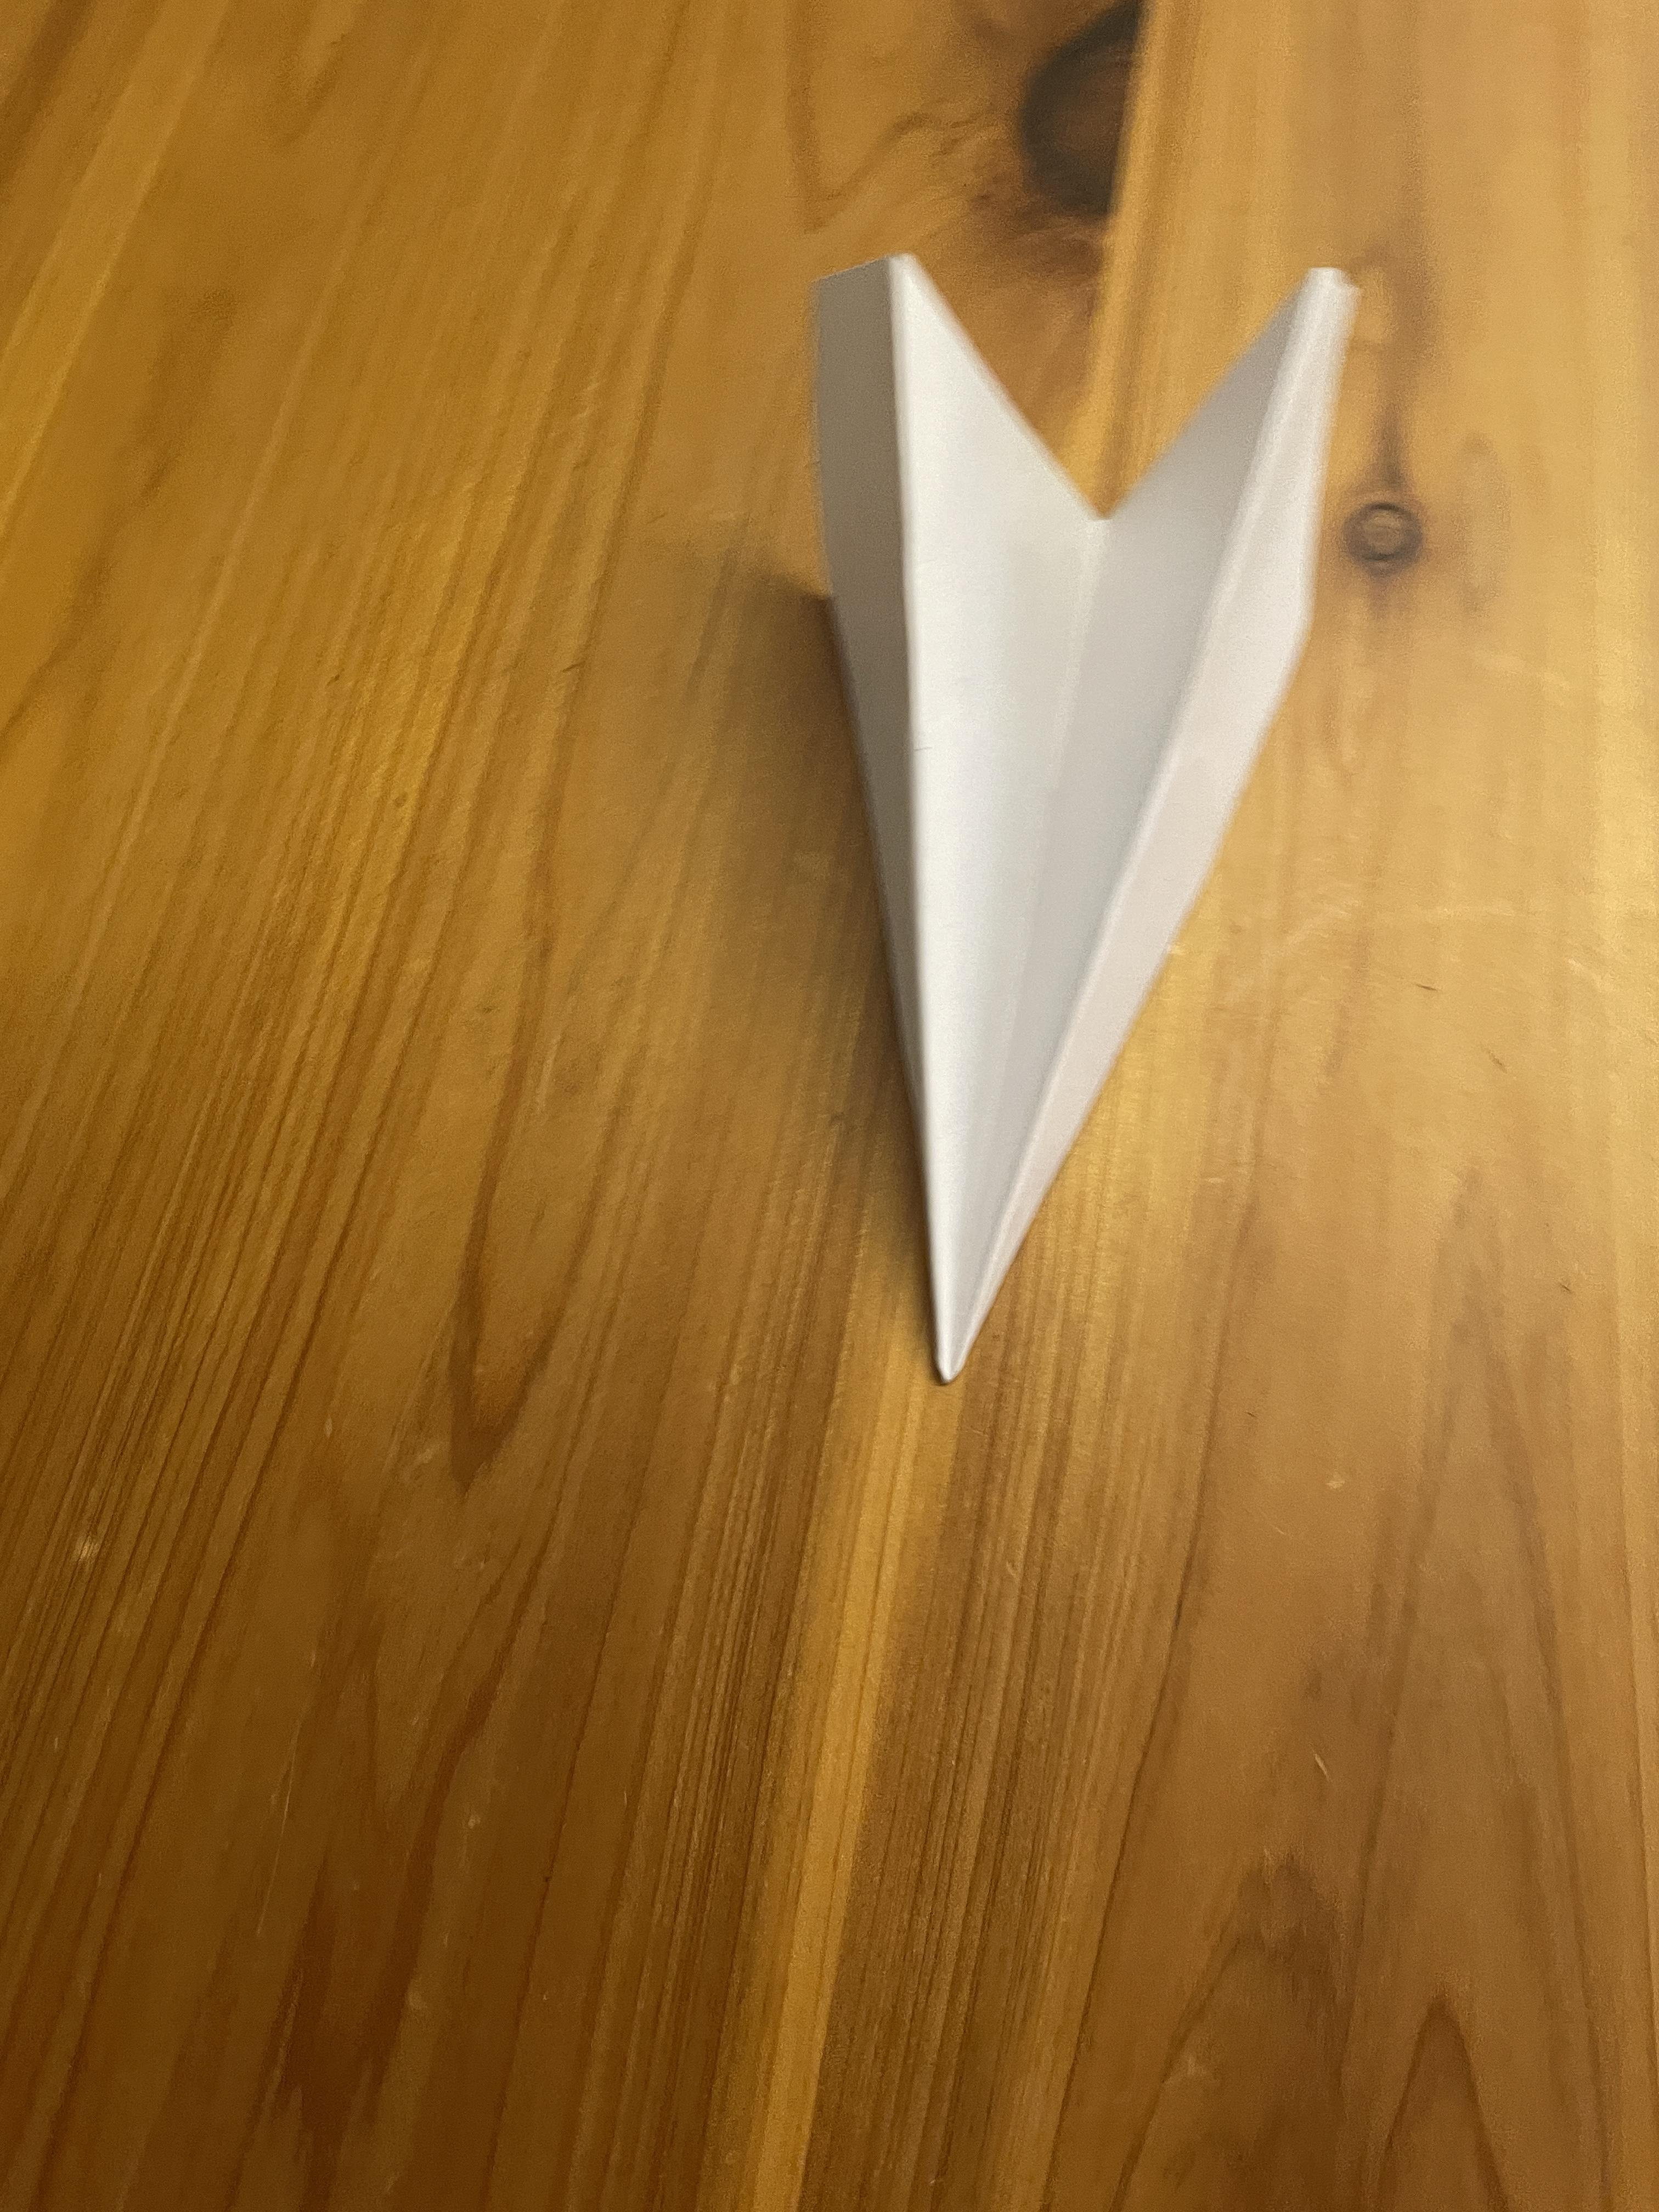shape_3: (697, 138, 1539, 1587)
